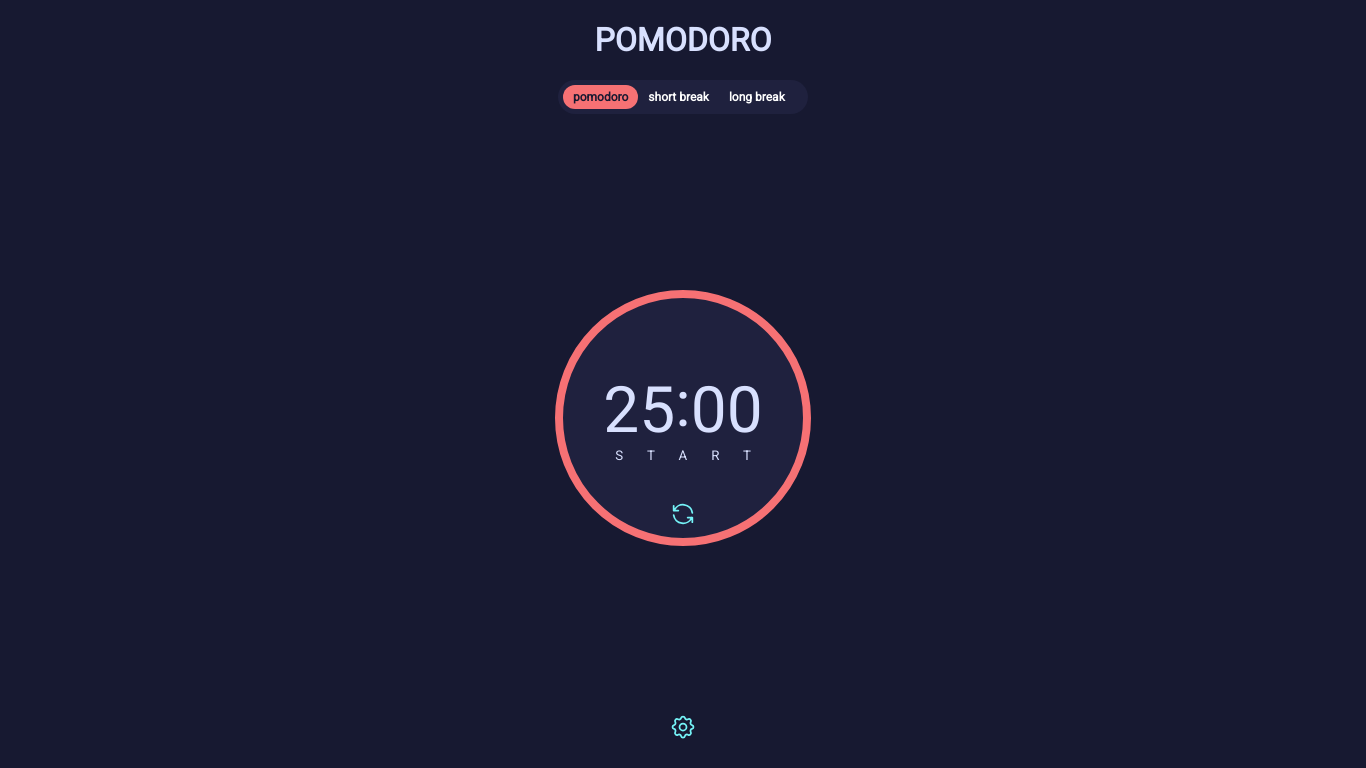
Test: Pomodoro › should open settings dialog
Click the button with test id "settings": (683, 728) x1=669 y1=712 x2=697 y2=744
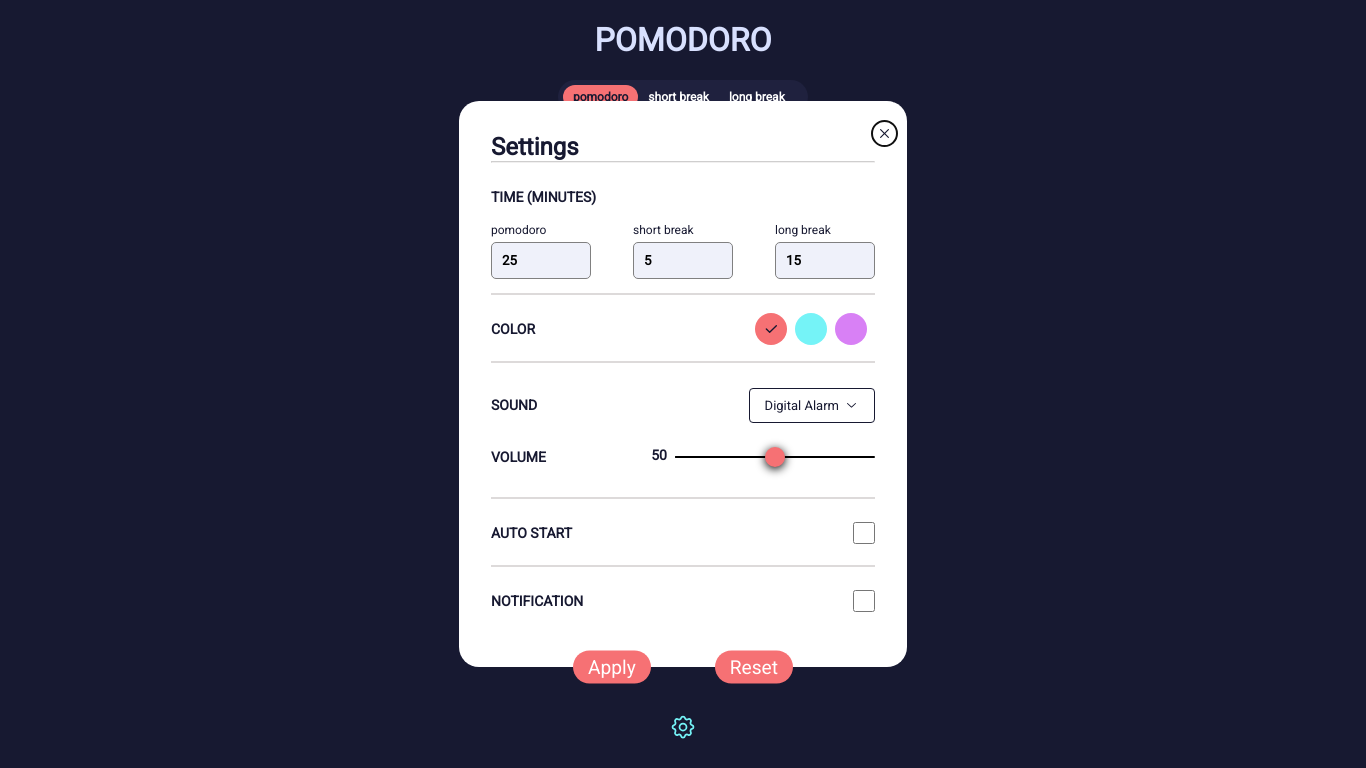
Check: the heading "Time (minutes)" is shown, box x1=491 y1=189 x2=596 y2=205
Check: the number field labelled "pomodoro" is shown, box x1=491 y1=242 x2=591 y2=279
Check: the number field labelled "short break" is shown, box x1=633 y1=242 x2=733 y2=279
